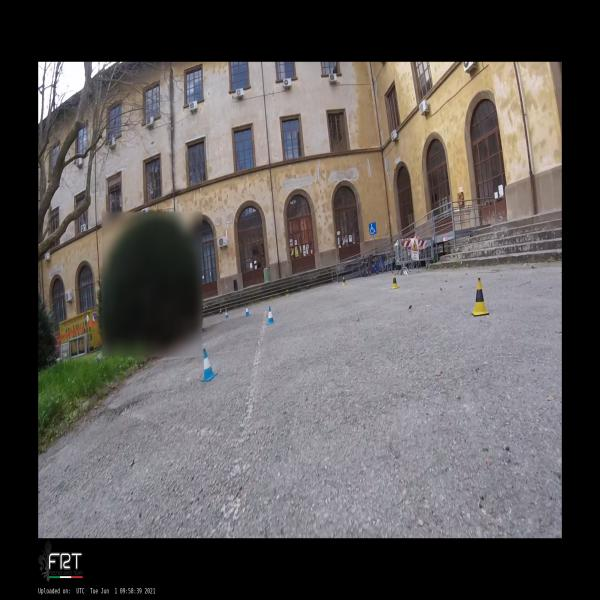blue_cone: (201, 349, 218, 382), (267, 307, 275, 325), (245, 305, 251, 317), (225, 309, 229, 319)
unknown_cone: (220, 308, 222, 314)
yellow_cone: (471, 278, 489, 316), (391, 274, 399, 289), (342, 277, 346, 286), (286, 289, 290, 297)
